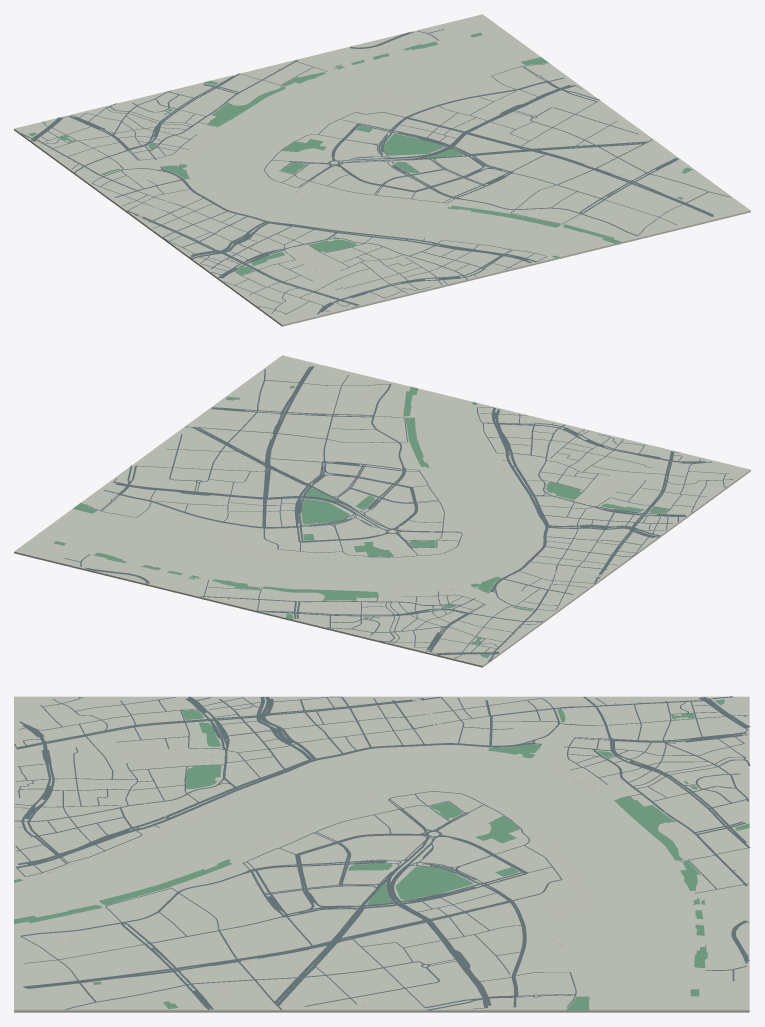
File: terrain.glb
3 renders of one model, top to bottom at view 1: azimuth 30°, elevation 25°; view 2: azimuth 150°, elevation 25°; view 3: azimuth 270°, elevation 25°, orthographic. The views are drawn at different scales.
Parts seen in each view (by area): view 1: terrain-base, street-network, riverside-parks; view 2: terrain-base, street-network, riverside-parks; view 3: terrain-base, street-network, riverside-parks.
Boxes of the visible parts, x1,y1,x2,y2 form: terrain-base: [14, 14, 750, 326]; street-network: [19, 29, 730, 314]; riverside-parks: [28, 32, 692, 274]; terrain-base: [14, 355, 750, 667]; street-network: [64, 366, 732, 661]; riverside-parks: [53, 386, 668, 657]; terrain-base: [14, 696, 749, 1012]; street-network: [14, 696, 750, 1010]; riverside-parks: [14, 699, 749, 1010].
Size of the model in its own units: 3511 by 13.15 by 3477.
